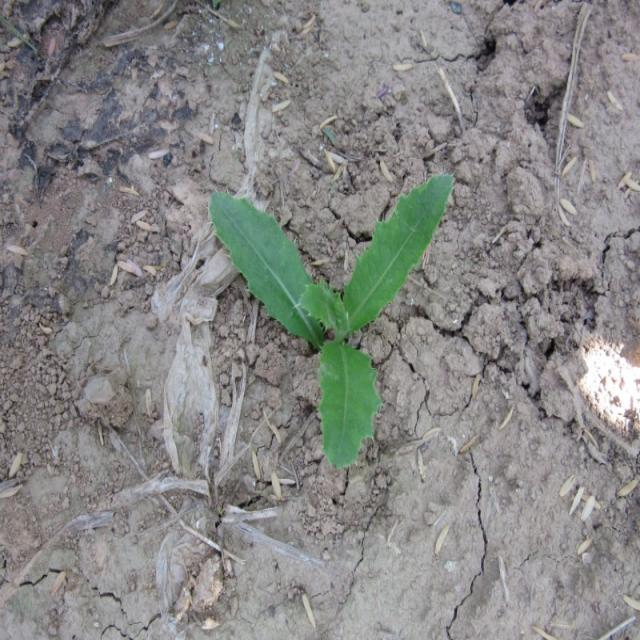field_thistle: (196, 150, 450, 468)
